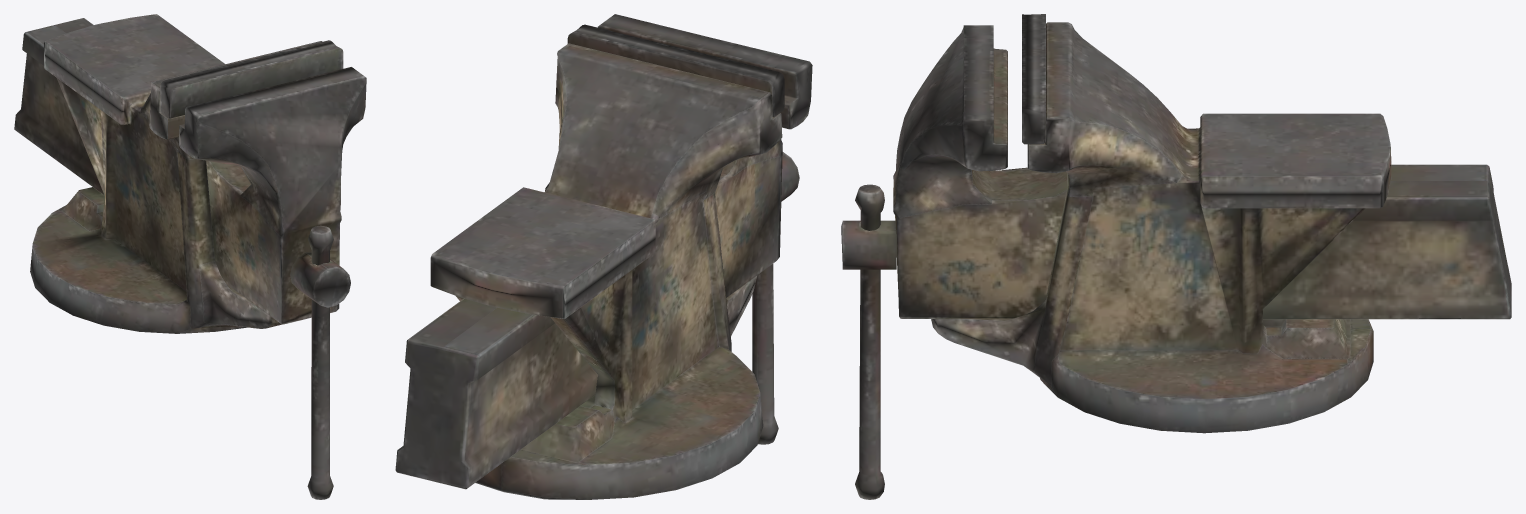
File: bench_vice_01.gltf
3 renders of one model, left to right at view 1: azimuth 30°, elevation 25°; view 2: azimuth 150°, elevation 25°; view 3: azimuth 270°, elevation 25°, orthographic. The views are drawn at different scales.
Parts seen in each view (by area): view 1: bench_vice_frame, bench_vice_clamp, bench_vice_bar, bench_vice_dial; view 2: bench_vice_frame, bench_vice_clamp, bench_vice_bar, bench_vice_dial; view 3: bench_vice_frame, bench_vice_clamp, bench_vice_bar, bench_vice_dial.
Boxes of the visible parts, x1=… form: bench_vice_frame: x1=30, y1=14, x2=343, y2=333; bench_vice_clamp: x1=14, y1=18, x2=366, y2=324; bench_vice_bar: x1=307, y1=225, x2=333, y2=499; bench_vice_dial: x1=290, y1=252, x2=350, y2=307; bench_vice_frame: x1=430, y1=24, x2=784, y2=499; bench_vice_clamp: x1=395, y1=14, x2=812, y2=489; bench_vice_bar: x1=752, y1=264, x2=778, y2=444; bench_vice_dial: x1=781, y1=152, x2=799, y2=201; bench_vice_frame: x1=931, y1=14, x2=1391, y2=433; bench_vice_clamp: x1=893, y1=25, x2=1511, y2=319; bench_vice_bar: x1=855, y1=184, x2=884, y2=499; bench_vice_dial: x1=841, y1=220, x2=896, y2=269.
Size of the model in its own units: 0.2005 by 0.284 by 0.3957.
Materials: 1 (1 with a texture image).
